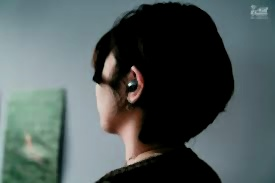earphone: (126, 65, 144, 104)
